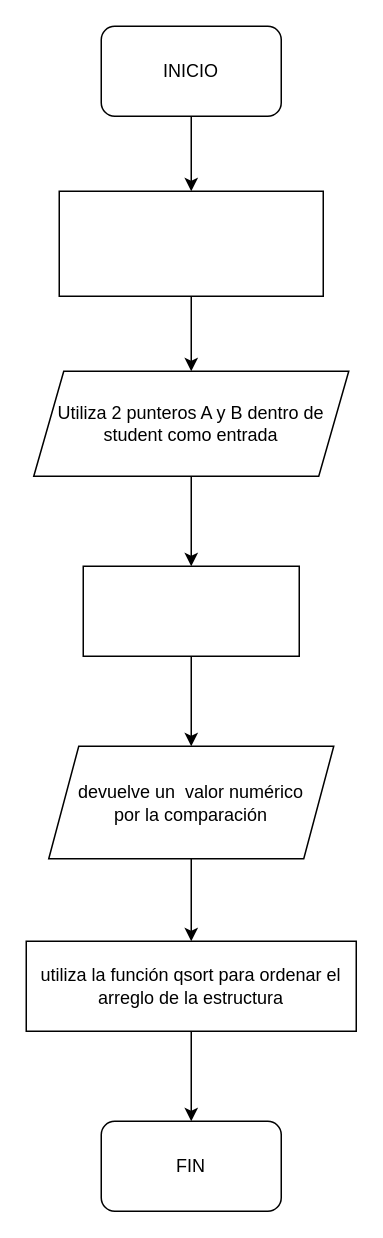
Image size: 383x1238. Some labels were removed from this diagram. Each missing label, with the centre of its shape:
"convierte 2 punteros en estructuras" goes at point 190,610.
"la función compare, compara la nota media de 2 alumnos" goes at point 190,243.
